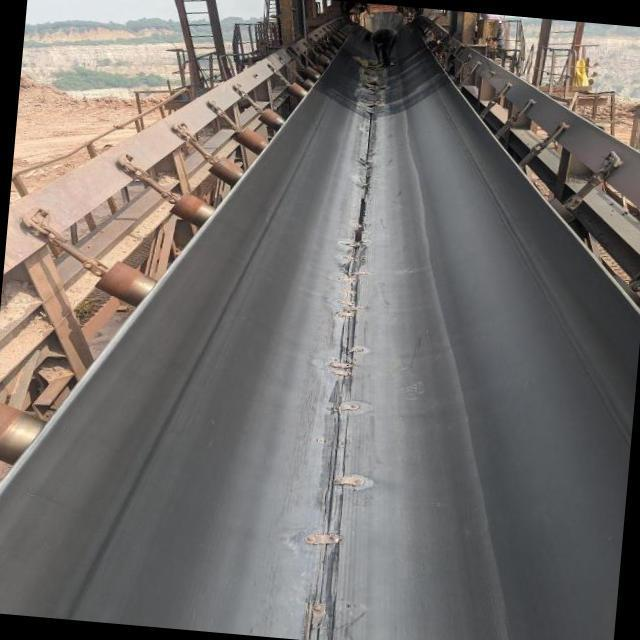Tear: (300, 101, 383, 640)
